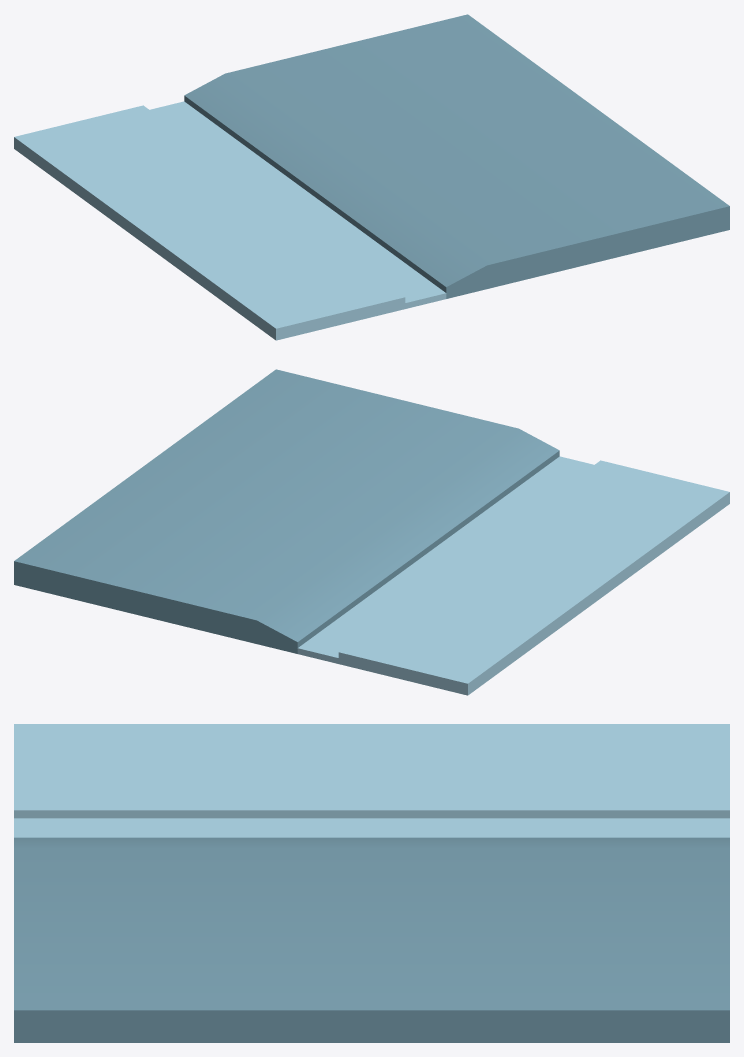
Rendered from roadEdge.fbx.
The picture shows the model from 3 angles, top to bottom: view 1: azimuth 30°, elevation 25°; view 2: azimuth 150°, elevation 25°; view 3: azimuth 270°, elevation 25°; orthographic projection. The views are drawn at different scales.
Visible parts, largest first — view 1: roadEdge; view 2: roadEdge; view 3: roadEdge.
Boxes of the visible parts, x1=… form: roadEdge: x1=14, y1=14, x2=729, y2=340; roadEdge: x1=14, y1=369, x2=729, y2=695; roadEdge: x1=14, y1=724, x2=729, y2=1042.
Size of the model in its own units: 10 by 0.5 by 10.
